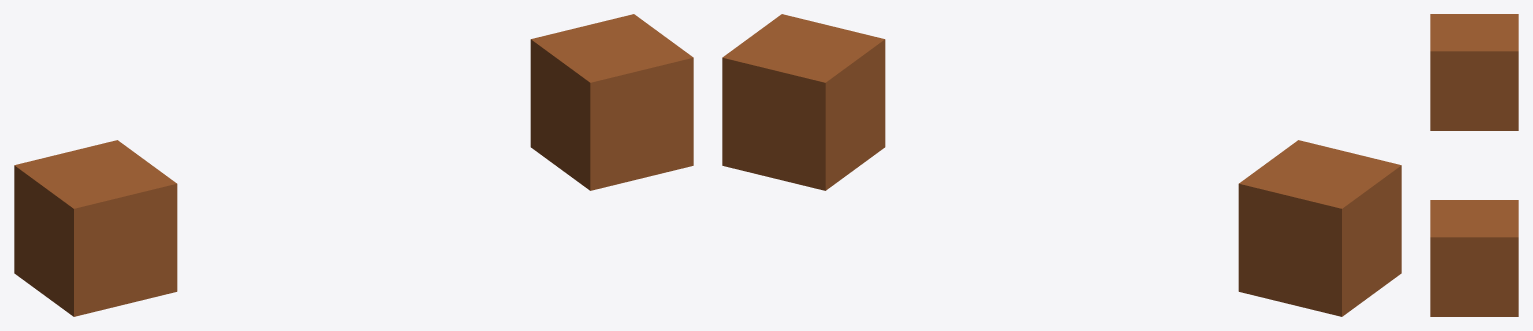
The model's file is nave3-laranja.obj.
3 views of the same model, side by side, from view 1: azimuth 30°, elevation 25°; view 2: azimuth 150°, elevation 25°; view 3: azimuth 270°, elevation 25° (orthographic). The views are drawn at different scales.
Bounding box in the file's own units: 0.6 × 0.1 × 0.1.
Materials: 1 (1 with a texture image).
